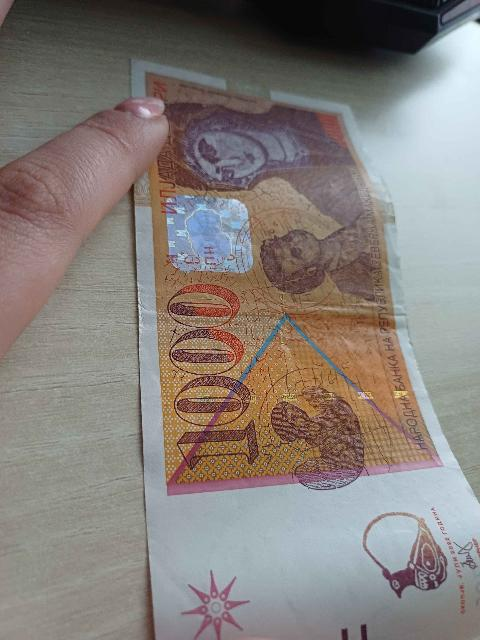1000_note: (114, 64, 479, 639)
